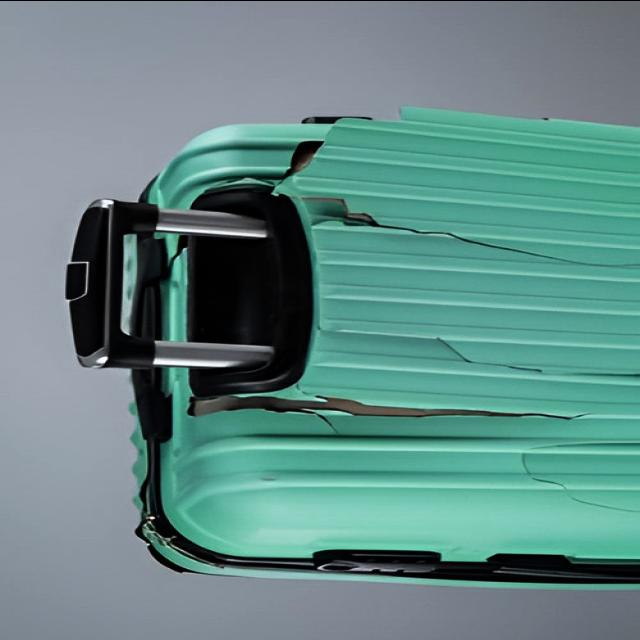Damage-bag: (295, 195, 638, 271), (188, 390, 637, 432), (518, 440, 640, 511), (207, 139, 322, 192), (440, 341, 544, 372), (566, 369, 640, 379), (301, 115, 370, 122), (173, 234, 188, 260)
